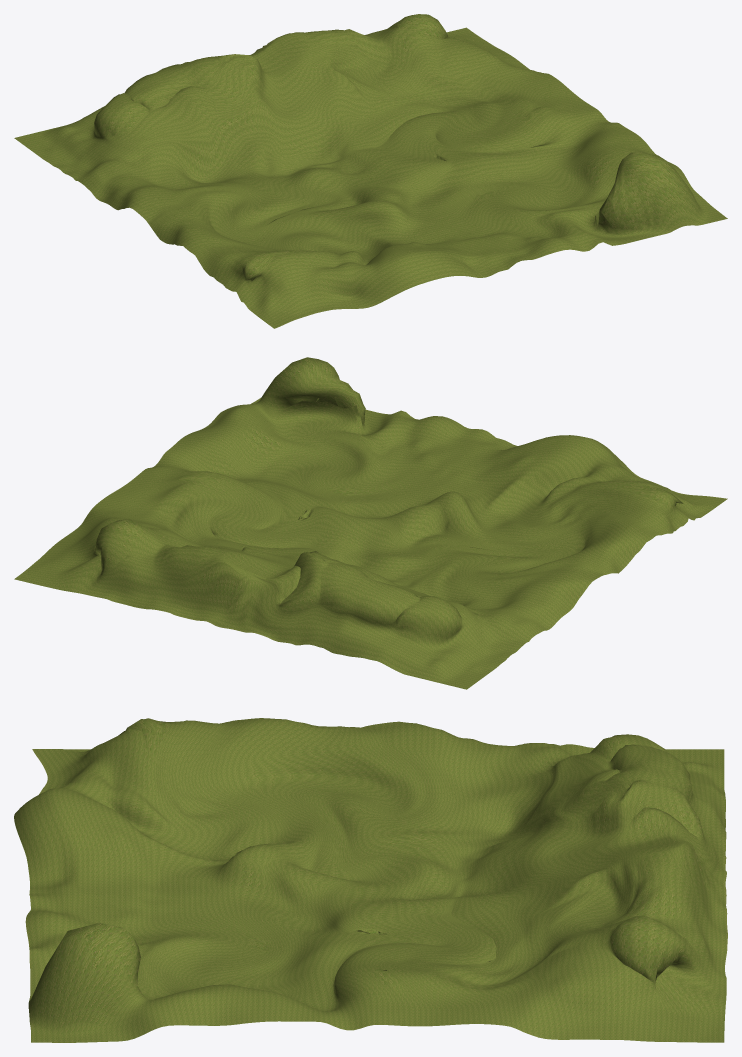
3 renders of one model, top to bottom at view 1: azimuth 30°, elevation 25°; view 2: azimuth 150°, elevation 25°; view 3: azimuth 270°, elevation 25°, orthographic. The views are drawn at different scales.
Parts seen in each view (by area): view 1: Plane; view 2: Plane; view 3: Plane.
Part boxes in pixels (box(x1,y1,x2,y2)): Plane: box(14, 14, 727, 328); Plane: box(14, 357, 727, 689); Plane: box(14, 718, 727, 1042).
Size of the model in its own units: 10197 by 1738 by 10294.
1 material, 1 textured.
